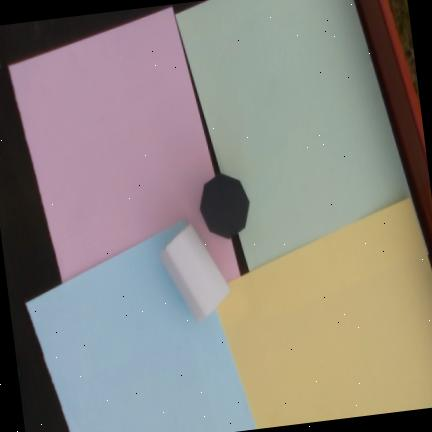Prisma_hexagonal: (158, 225, 231, 324), (199, 173, 250, 238)
